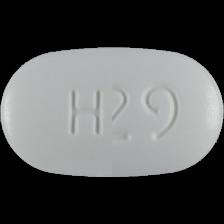43547-277: (0, 0, 224, 224)
